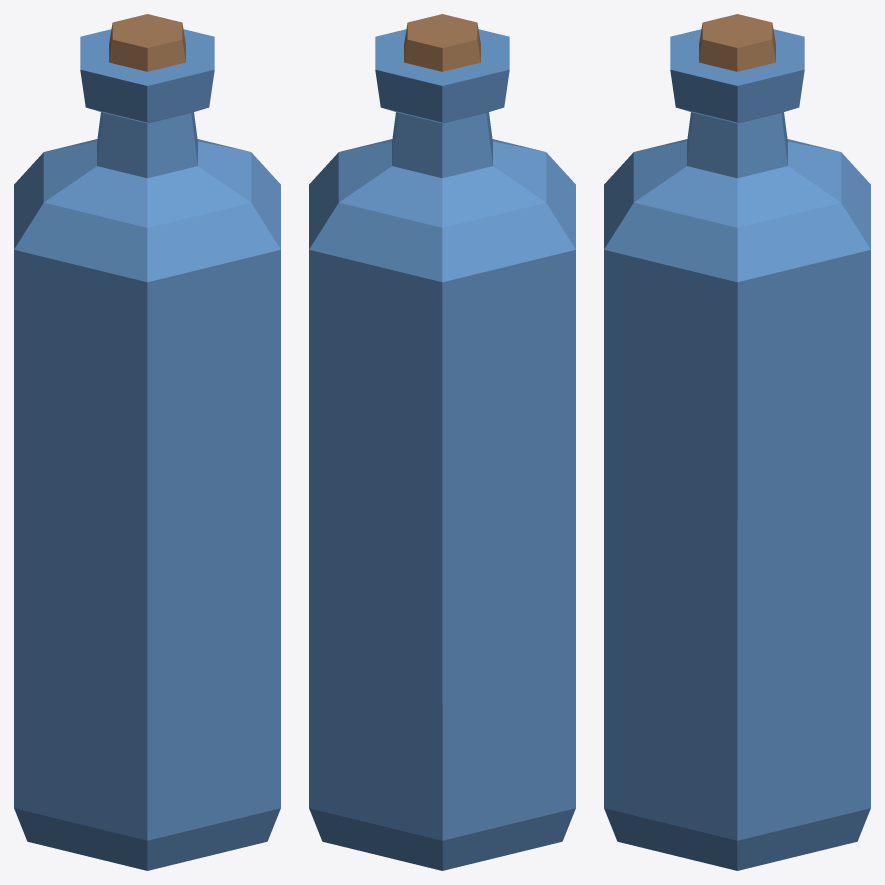
File: Blue_Potion_1.fbx
3 views of the same model, side by side, from view 1: azimuth 30°, elevation 25°; view 2: azimuth 150°, elevation 25°; view 3: azimuth 270°, elevation 25° (orthographic).
Visible parts, largest first — view 1: Blue_Potion_1; view 2: Blue_Potion_1; view 3: Blue_Potion_1.
Boxes of the visible parts, x1=… form: Blue_Potion_1: x1=14, y1=14, x2=280, y2=870; Blue_Potion_1: x1=309, y1=14, x2=575, y2=870; Blue_Potion_1: x1=604, y1=14, x2=870, y2=870.
Size of the model in its own units: 13.2 by 36.91 by 11.43.
